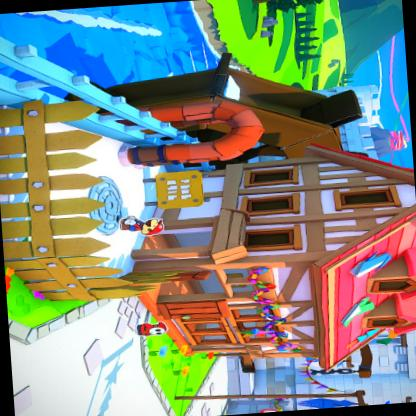manholes: (86, 172, 127, 240)
